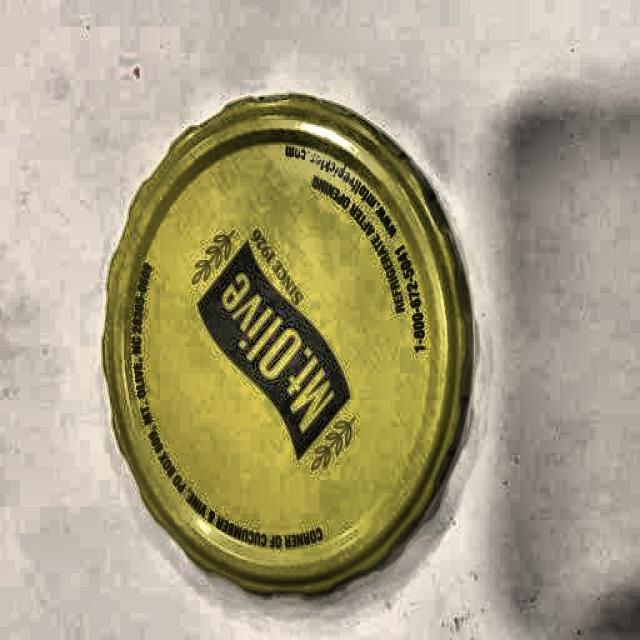metal: (99, 97, 472, 598)
